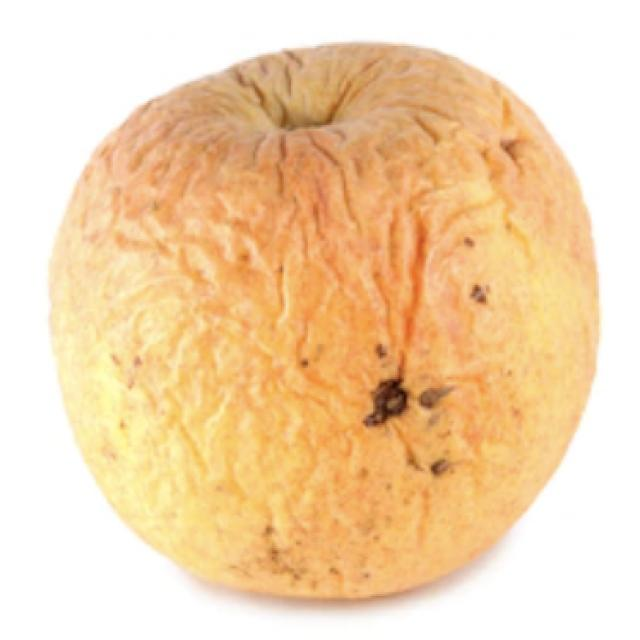rotten_apple: (55, 44, 600, 598)
